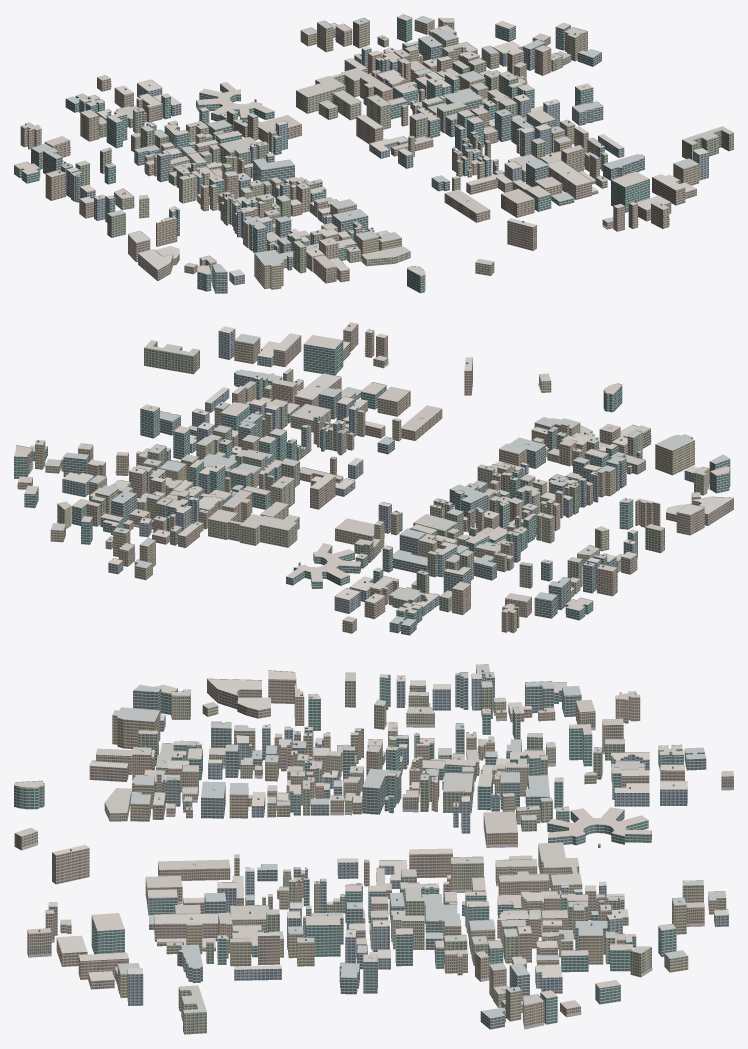
The picture shows the model from 3 angles, top to bottom: view 1: azimuth 30°, elevation 25°; view 2: azimuth 150°, elevation 25°; view 3: azimuth 270°, elevation 25°; orthographic projection. The views are drawn at different scales.
Visible parts, largest first — view 1: Station 10 surrounding real OSM building footprints; view 2: Station 10 surrounding real OSM building footprints; view 3: Station 10 surrounding real OSM building footprints.
Boxes of the visible parts, x1,y1,x2,y2 form: Station 10 surrounding real OSM building footprints: (14,14,733,293); Station 10 surrounding real OSM building footprints: (14,322,733,635); Station 10 surrounding real OSM building footprints: (14,664,733,1034).
Size of the model in its own units: 785 by 35.55 by 699.
25 materials, 8 textured.
